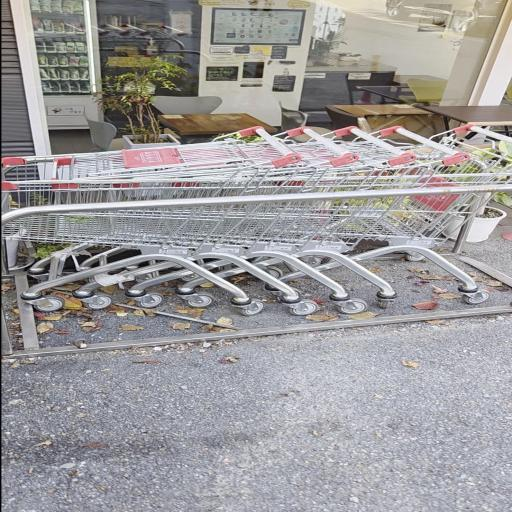combined_cart: (0, 119, 512, 360)
